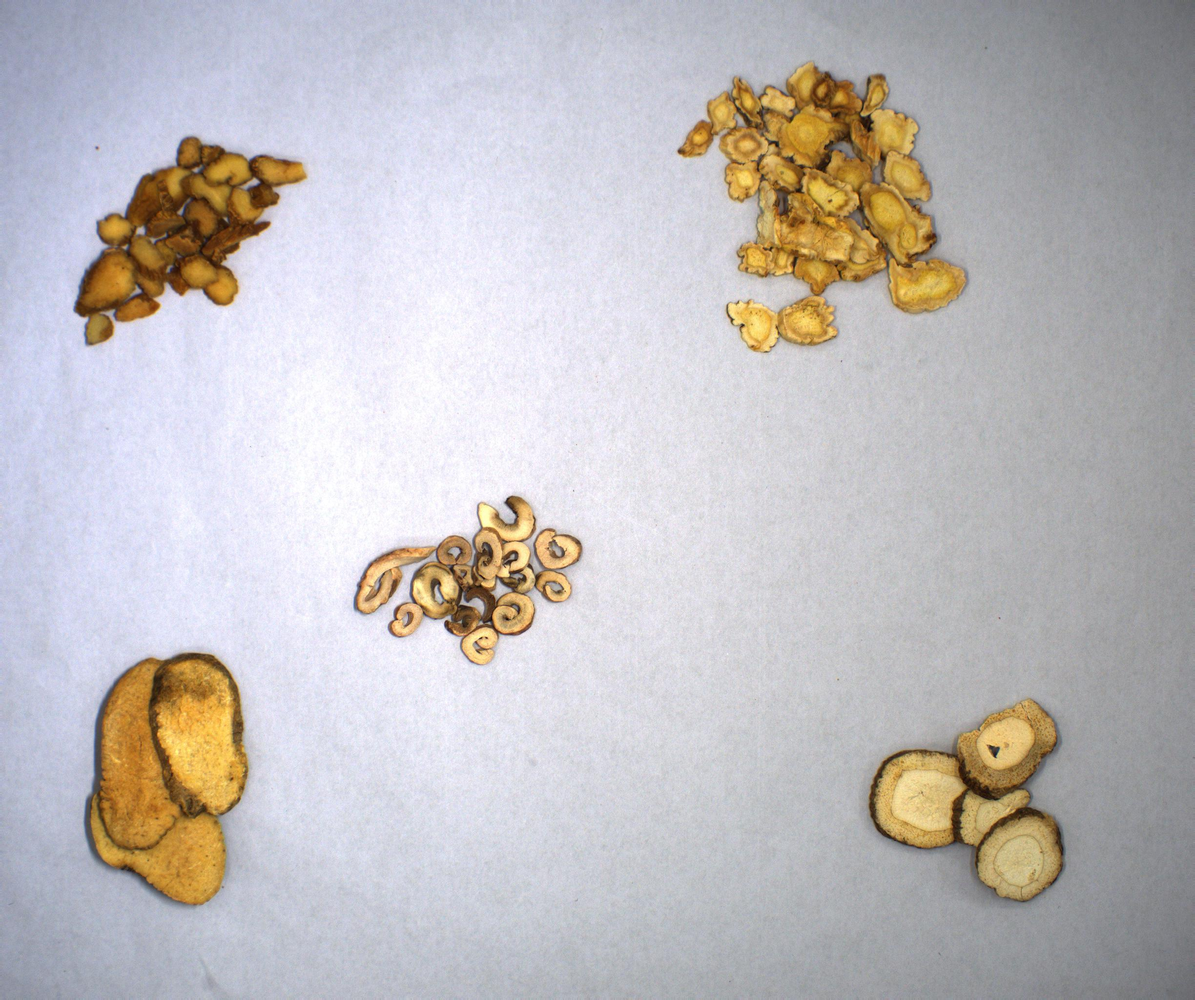baizhi: (849, 699, 1079, 911)
jiegeng: (672, 59, 975, 359)
mudanpi: (350, 491, 585, 668)
yuzhu: (66, 132, 320, 348)
zexie: (77, 646, 251, 920)
